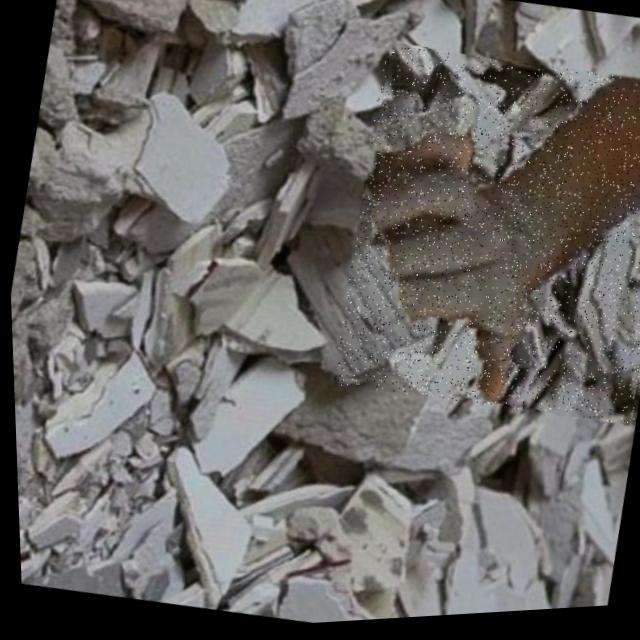Person in Rubble: (319, 37, 640, 446)
